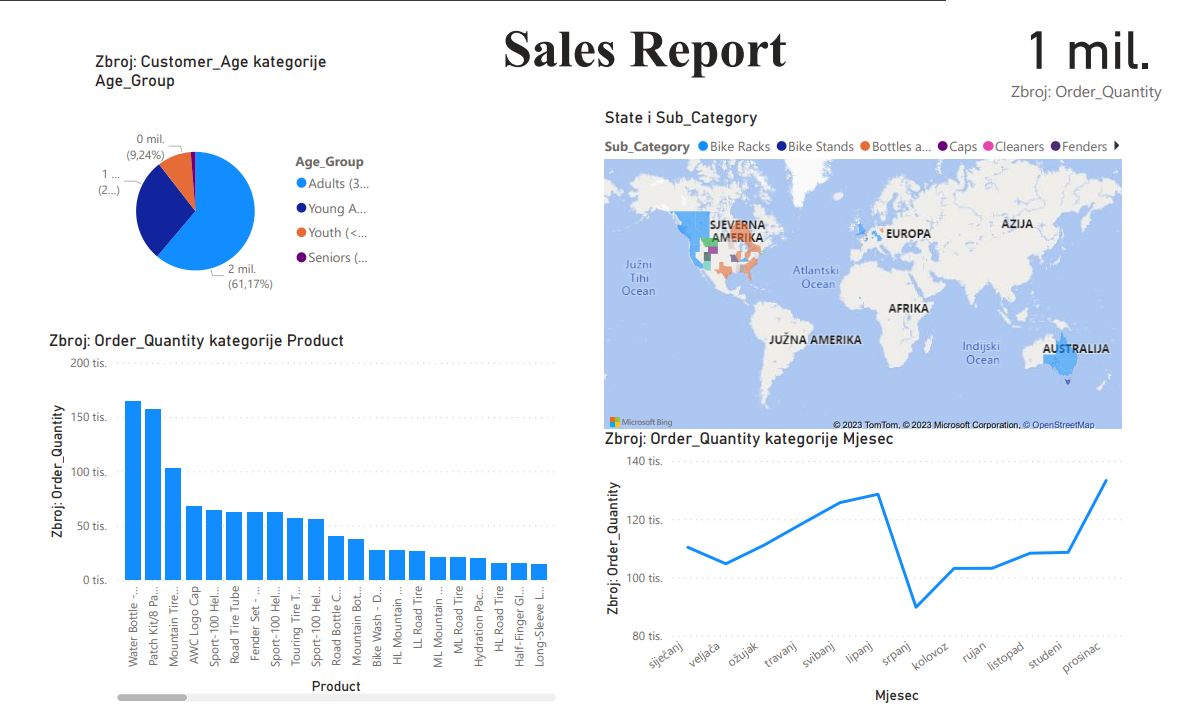

This screenshot's page, from the dashboard's own definition file:
{"tool":"powerbi","page":{"name":"Stranica 1","canvas":[1280,720],"ordinal":0},"visuals":[{"type":"columnChart","fields":{"Y":["Sum(Sales.Order_Quantity)"],"Category":["Sales.Product"]},"box":[74.7,336.3,526,382.3],"z":0},{"type":"pieChart","fields":{"Category":["Sales.Age_Group"],"Y":["Sum(Sales.Customer_Age)"]},"box":[122.2,51.7,301.8,287.4],"z":1000},{"type":"filledMap","fields":{"Series":["Sales.Sub_Category"],"Category":["Sales.State"]},"box":[641.1,109,536.4,339.8],"z":2000},{"type":"card","fields":{"Values":["Sum(Sales.Order_Quantity)"]},"box":[993,0,287,108.5],"z":3000},{"type":"textbox","box":[537.5,12.9,365,77.6],"z":4000},{"type":"lineChart","fields":{"Y":["Sum(Sales.Order_Quantity)"],"Category":["Sales.Date.Varijacija.Hijerarhija datuma.Mjesec"]},"box":[641.1,435.9,536.4,284.2],"z":5000}]}

Visuals, with their boxes on the page's 1280x720 design canvas (x1, y1, x2, y2). These are canvas units, not pixel positions in the 1190x712 screenshot, which may show the page scaled, cropped or inside an application window:
columnChart - Sum(Sales.Order_Quantity) x Sales.Product: 75, 336, 601, 719
pieChart - Sales.Age_Group x Sum(Sales.Customer_Age): 122, 52, 424, 339
filledMap - Sales.Sub_Category x Sales.State: 641, 109, 1178, 449
card - Sum(Sales.Order_Quantity): 993, 0, 1280, 108
textbox: 538, 13, 902, 90
lineChart - Sum(Sales.Order_Quantity) x Sales.Date.Varijacija.Hijerarhija datuma.Mjesec: 641, 436, 1178, 720
